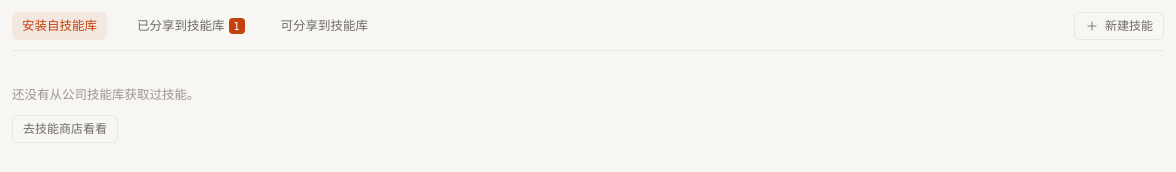
Test: 三区排列与判定表接线 › sharedTo:本地改过、库没变 → 「分享改动」
Click the tab "已分享到技能库" at [181, 26], box [137,16,224,36]
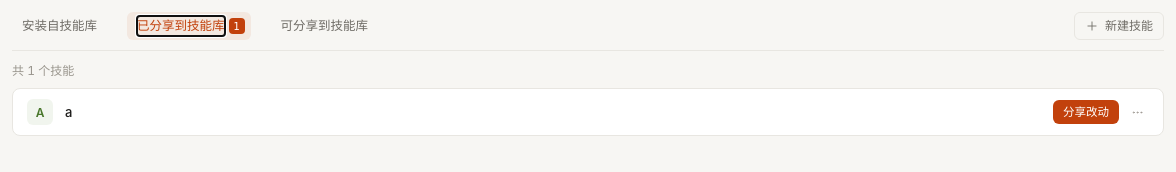
Result: the button "分享改动" is shown at [1053,100,1119,124]
